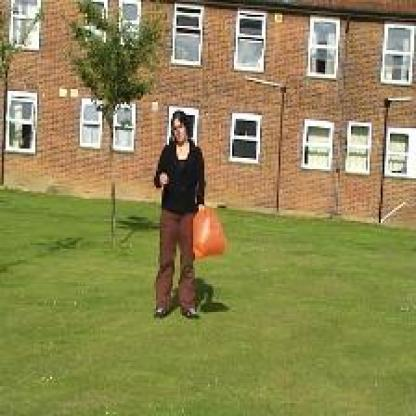other: (190, 197, 229, 260)
